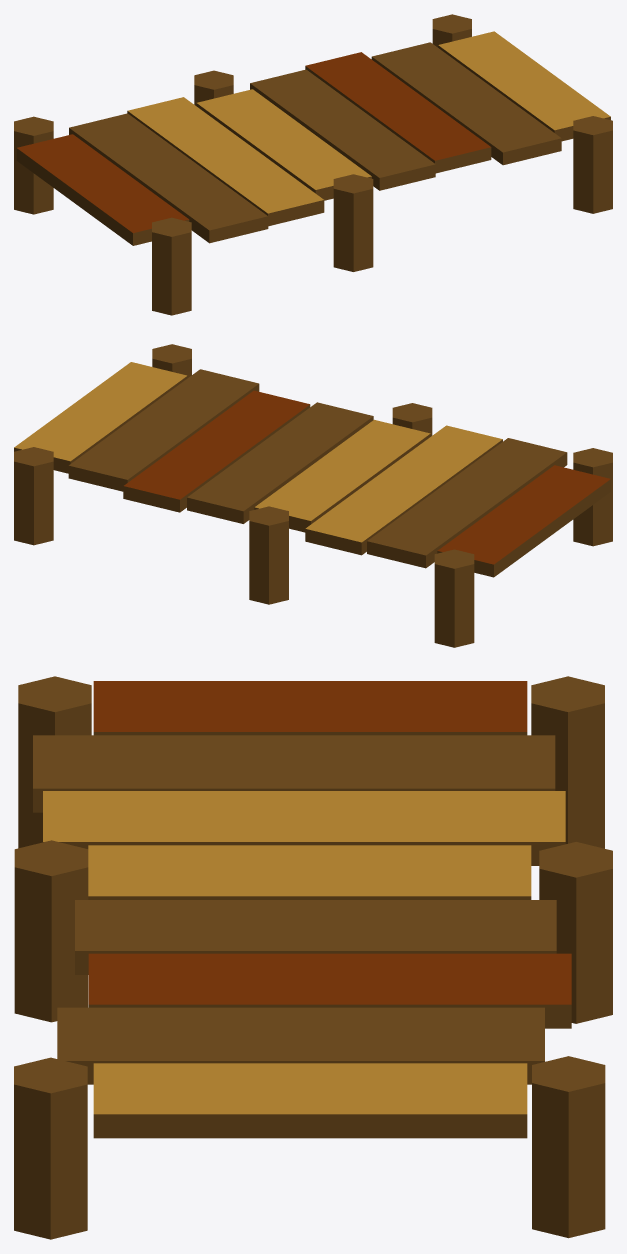
The model's file is Pier.fbx.
3 renders of one model, top to bottom at view 1: azimuth 30°, elevation 25°; view 2: azimuth 150°, elevation 25°; view 3: azimuth 270°, elevation 25°, orthographic. The views are drawn at different scales.
Visible parts, largest first — view 1: pier; view 2: pier; view 3: pier.
Boxes of the visible parts, box(x1,y1,x2,y2) form: pier: box(14, 14, 612, 315); pier: box(14, 344, 612, 647); pier: box(14, 676, 612, 1239).
Bounding box in the file's own units: 8.94 × 1.41 × 5.22.
